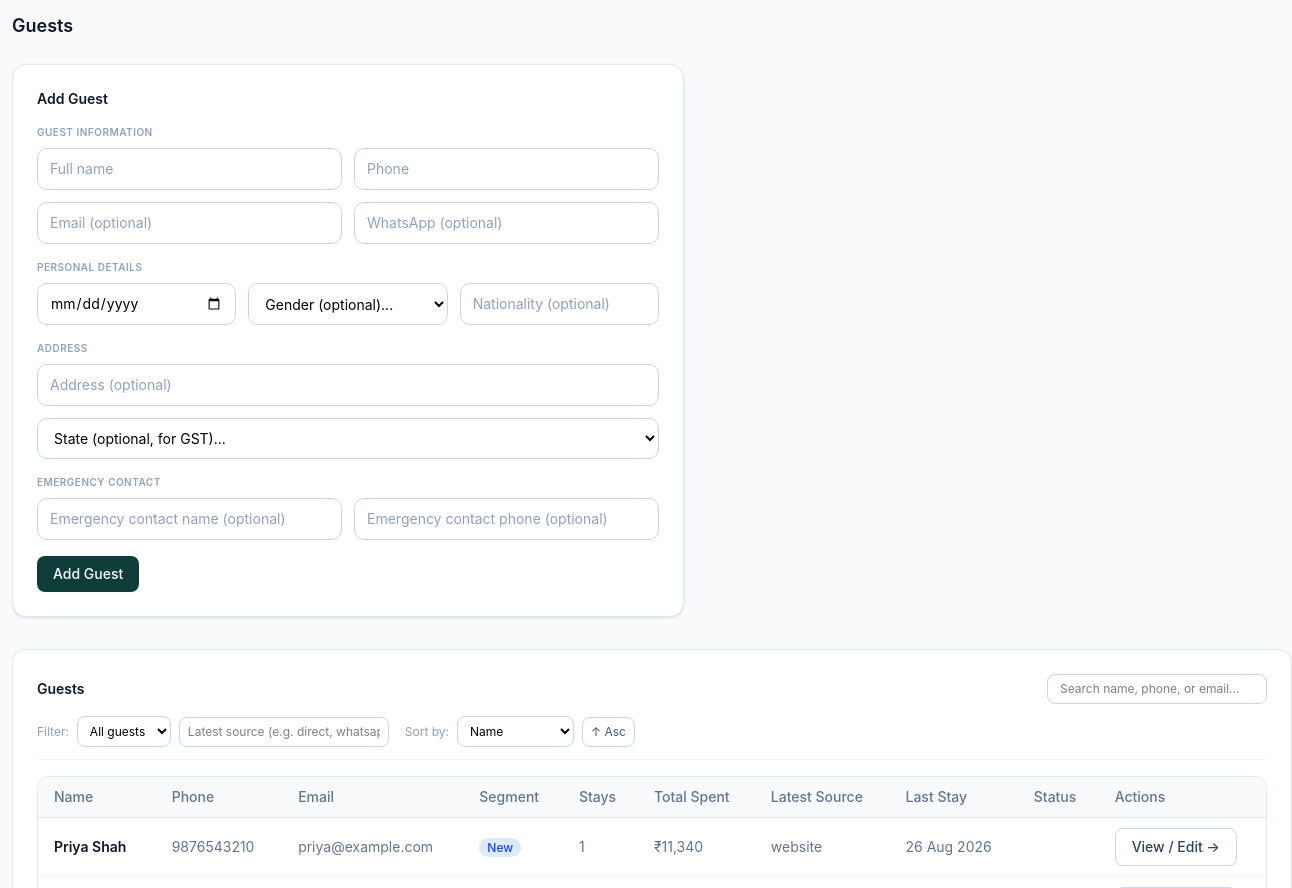
Test: GuestsPage — UI polish › search still narrows the guest list
Expected: the text "Priya Shah" is shown, [38,818,156,876]
Type "Ravi" into the field with placeholder "Search name, phone, or email...".
click(1157, 689); type("Ravi")  # box [1047,674,1267,704]
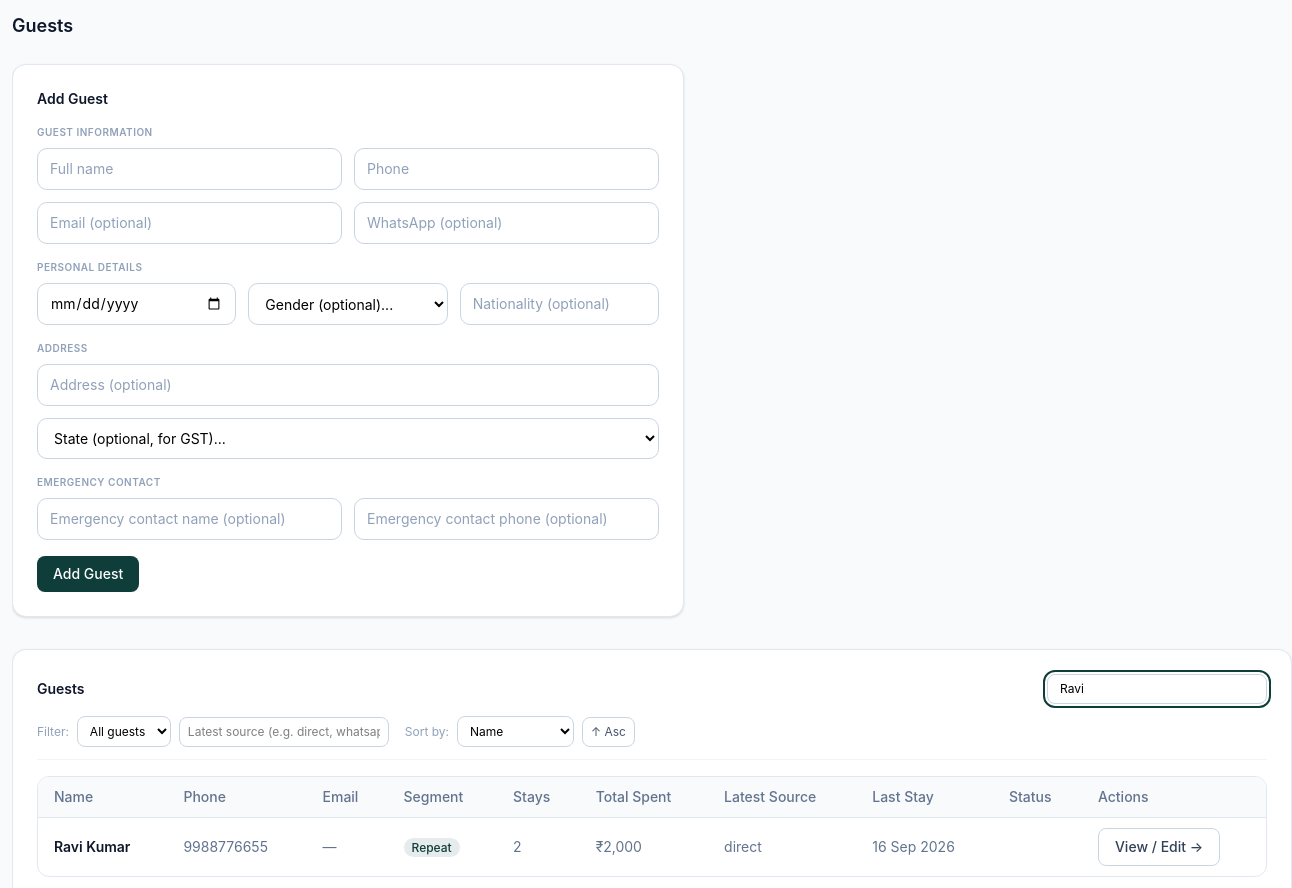
Expected: the text "Ravi Kumar" is shown, [38,818,167,876]
Expected: the text "Priya Shah" is gone
